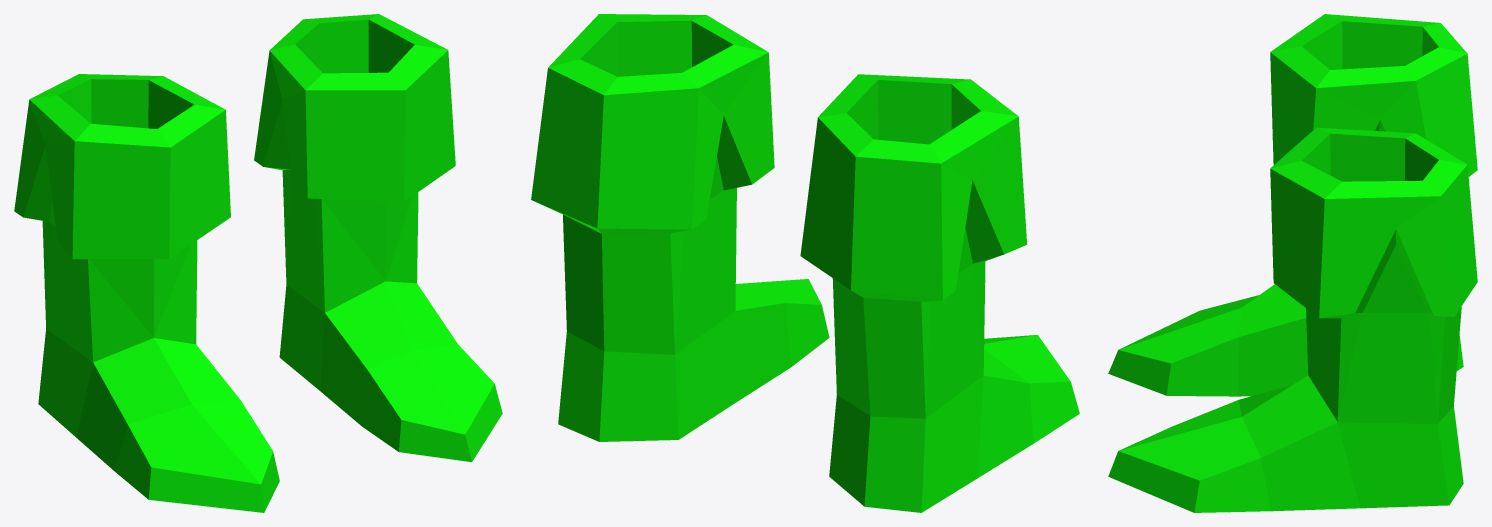
File: SM_Armor_Shoes_B_Fantasy.fbx
3 views of the same model, side by side, from view 1: azimuth 30°, elevation 25°; view 2: azimuth 150°, elevation 25°; view 3: azimuth 270°, elevation 25° (orthographic). The views are drawn at different scales.
Parts seen in each view (by area): view 1: armor-shoes-b-fantasy; view 2: armor-shoes-b-fantasy; view 3: armor-shoes-b-fantasy.
Boxes of the visible parts, x1,y1,x2,y2 form: armor-shoes-b-fantasy: (14, 14, 502, 512); armor-shoes-b-fantasy: (531, 14, 1079, 512); armor-shoes-b-fantasy: (1108, 14, 1477, 512).
Bounding box in the file's own units: 0.3598 × 0.2864 × 0.2961.
